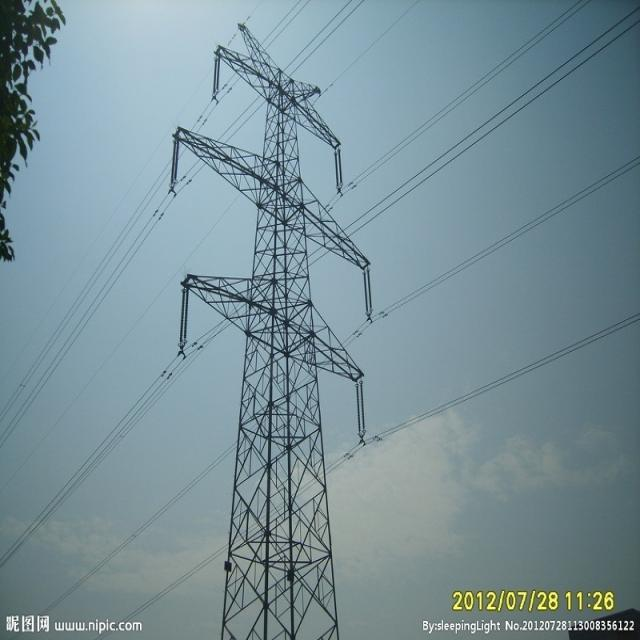non-critical vegetation: (165, 21, 386, 634)
